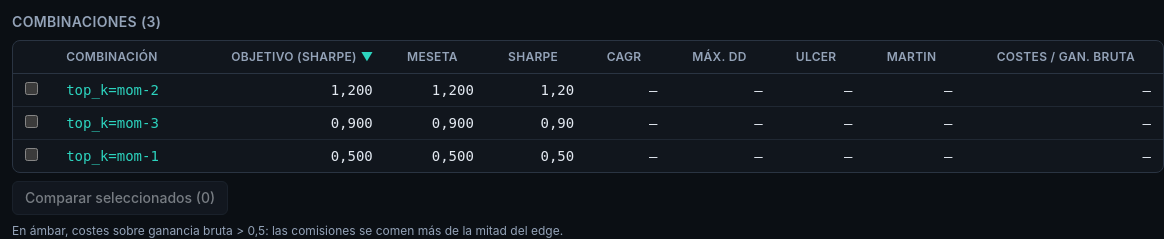
Test: Tabla de combinaciones del barrido › desmarcar una casilla la quita de la selección
(page scrolled)
Click the checkbox named "Seleccionar mom-2 para comparar".
click(32, 88)  # box [25, 82, 38, 95]
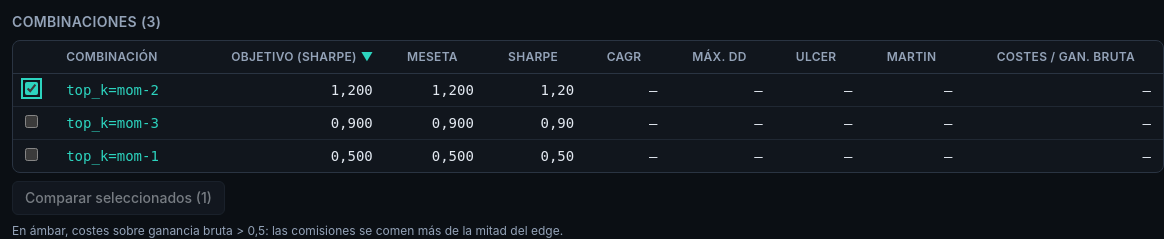
Result: the checkbox named "Seleccionar mom-2 para comparar" is checked
Click the checkbox named "Seleccionar mom-2 para comparar".
click(32, 88)  # box [25, 82, 38, 95]
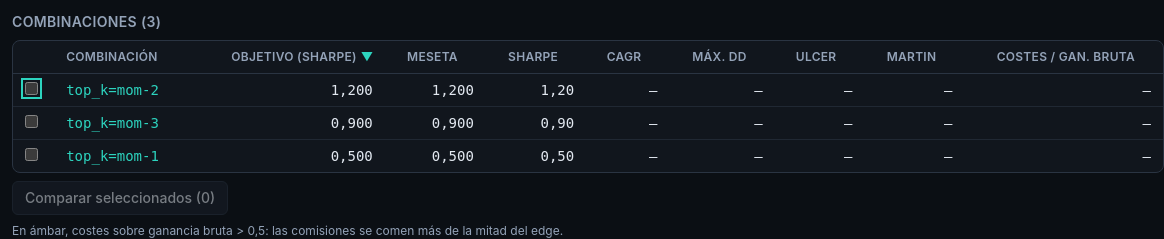
Result: the checkbox named "Seleccionar mom-2 para comparar" is not checked at [25, 82, 38, 95]
Result: the button "Comparar seleccionados (0)" is shown at [12, 181, 228, 215]
